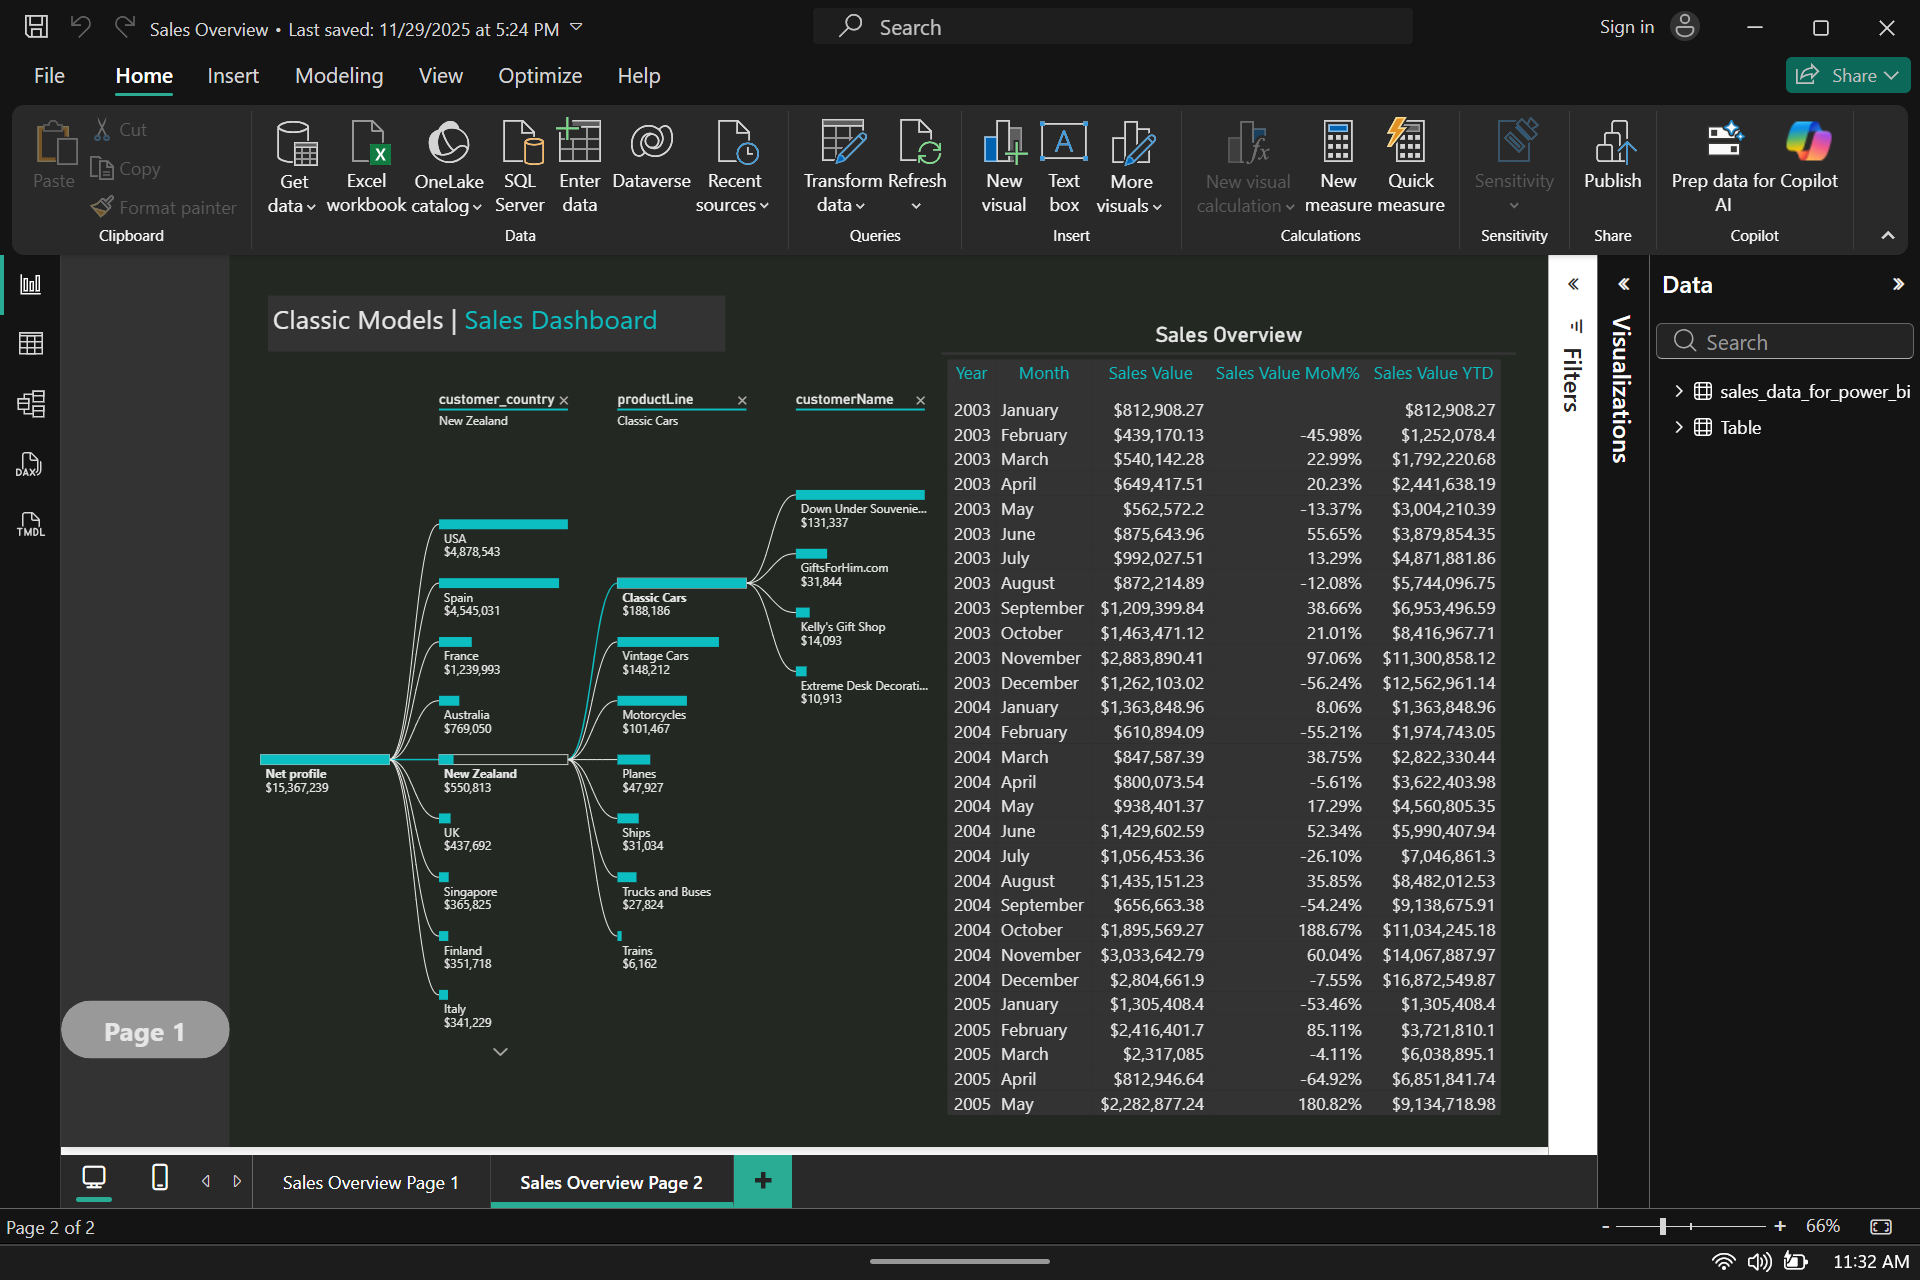

This screenshot's page, from the dashboard's own definition file:
{"tool":"powerbi","page":{"name":"Sales Overview Page 2","canvas":[1500,900],"ordinal":1},"visuals":[{"type":"shape","box":[0,0,170,900],"z":0},{"type":"decompositionTreeVisual","fields":{"Analyze":["sales_data_for_power_bi.Net profile"],"ExplainBy":["sales_data_for_power_bi.customer_country","sales_data_for_power_bi.productLine","sales_data_for_power_bi.customerName"]},"box":[170.3,118.9,716.9,755.9],"z":1000},{"type":"textbox","box":[209.4,40.8,461.4,56.8],"z":2000},{"type":"tableEx","title":"Sales Overview","fields":{"Values":["sales_data_for_power_bi.orderDate.Variation.Date Hierarchy.Year","sales_data_for_power_bi.orderDate.Variation.Date Hierarchy.Month","sales_data_for_power_bi.sales_value","sales_data_for_power_bi.Sum of sales_value MoM%","sales_data_for_power_bi.Sum of sales_value YTD"]},"box":[888.2,68.1,579.5,806.5],"z":3000},{"type":"actionButton","box":[0,752.4,170.3,58.6],"z":4000}]}

Visuals, with their boxes on the page's 1500x900 design canvas (x1, y1, x2, y2). These are canvas units, not pixel positions in the 1920x1280 screenshot, which may show the page scaled, cropped or inside an application window:
shape: bbox=[0, 0, 170, 900]
decompositionTreeVisual - sales_data_for_power_bi.Net profile x sales_data_for_power_bi.customer_country: bbox=[170, 119, 887, 875]
textbox: bbox=[209, 41, 671, 98]
"Sales Overview" tableEx: bbox=[888, 68, 1468, 875]
actionButton: bbox=[0, 752, 170, 811]
